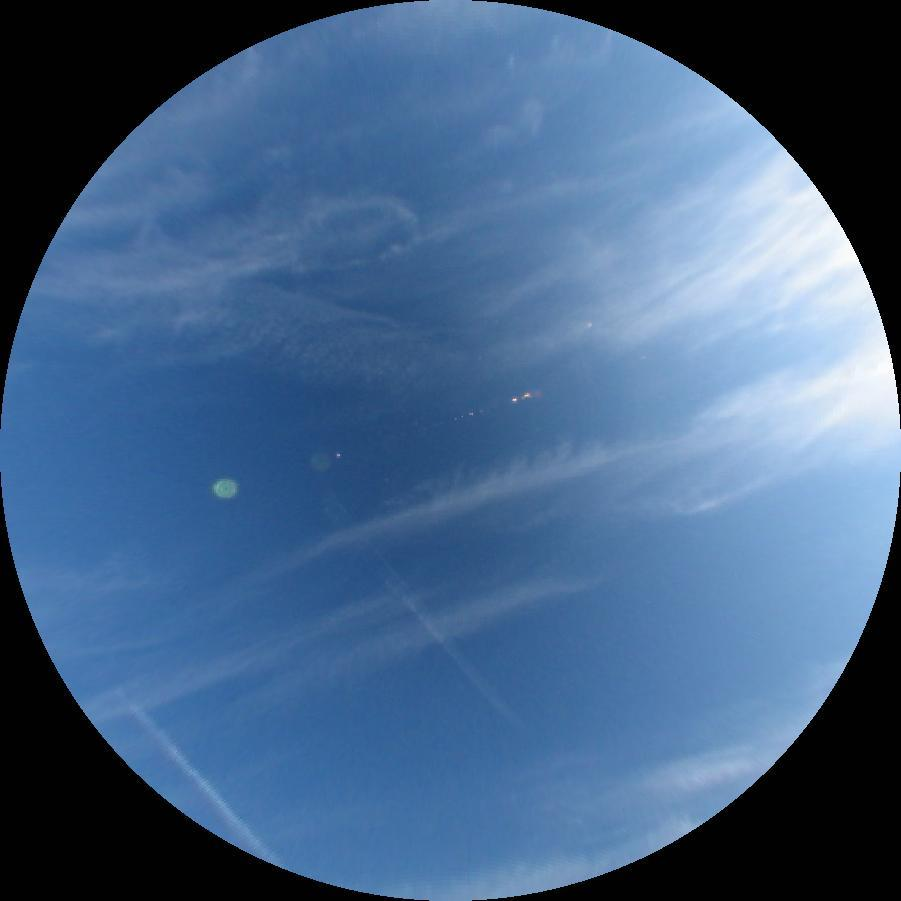contrail old: (116, 690, 287, 875)
contrail veryold: (313, 485, 524, 732)
